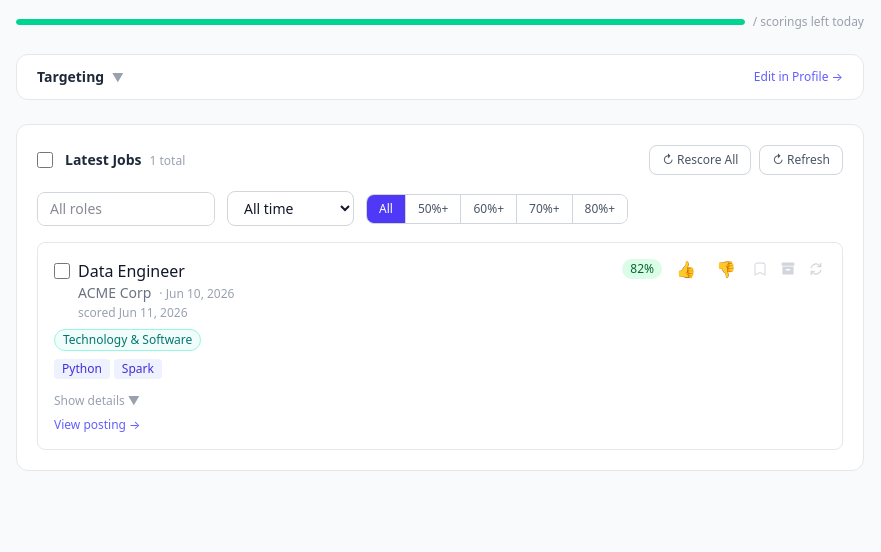
Test: LatestJobs — feedback › thumbs-down shows reason input instead of saving immediately
Click the button titled "Not relevant" at (726, 269), box [710,259,742,279]
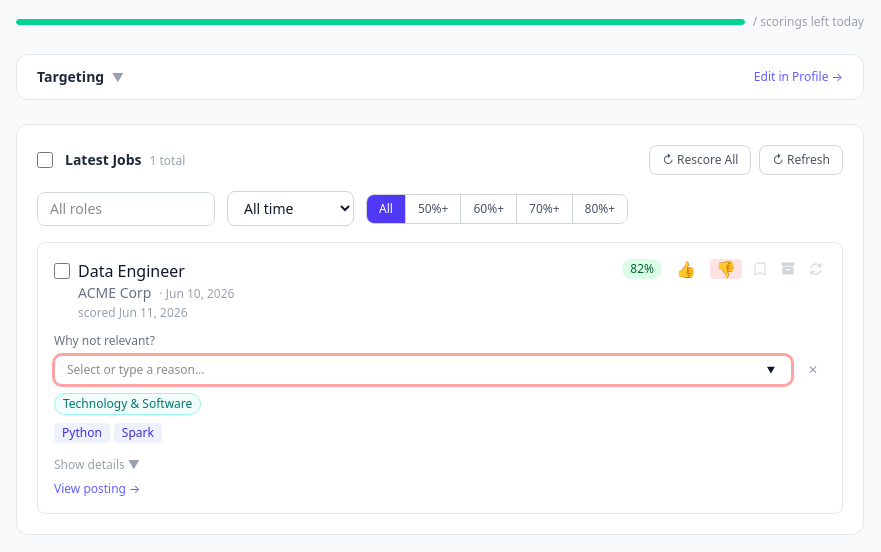
Check: the text "Why not relevant?" is shown, box [54,332,155,349]
Check: the field with placeholder "Select or type a reason…" is shown, box [54,355,792,385]
